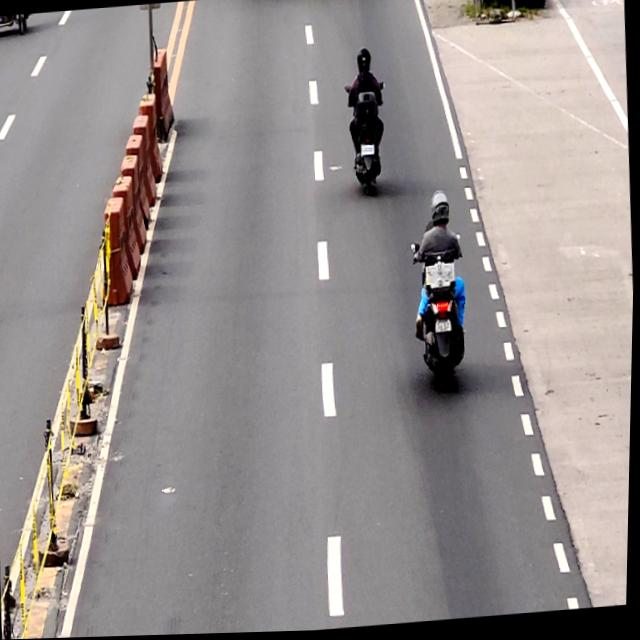License-Plate: (436, 320, 453, 337), (361, 146, 376, 160)
Motorcycle: (412, 237, 473, 401), (344, 84, 392, 199)
